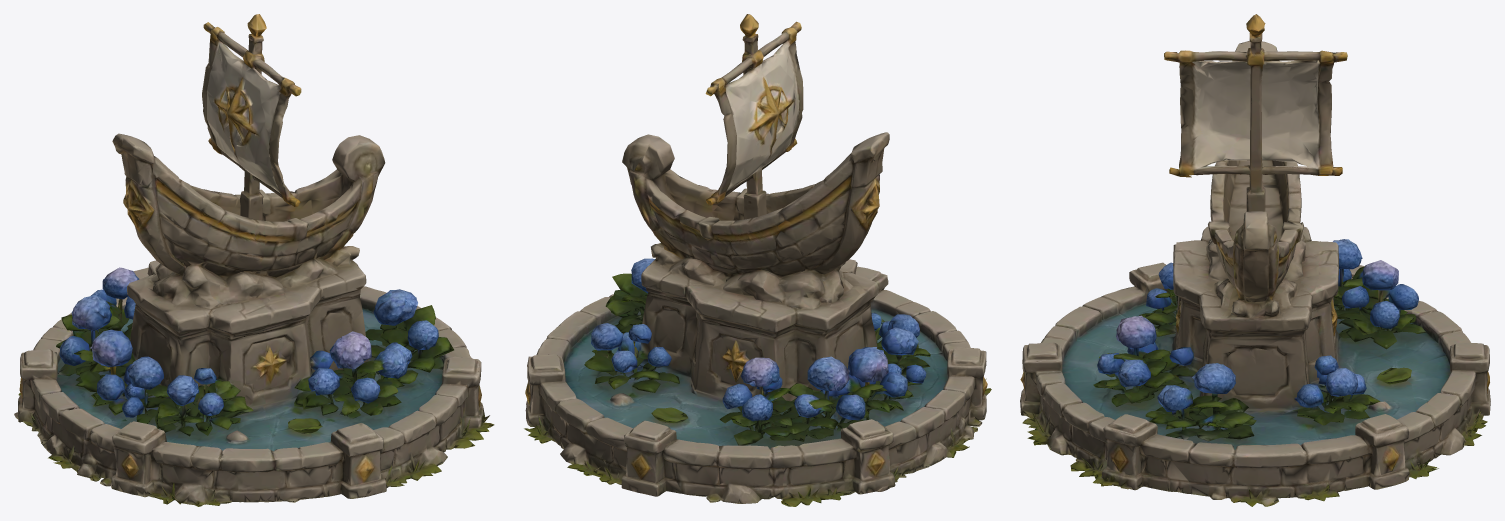
The model's file is ship_monument.glb.
3 renders of one model, left to right at view 1: azimuth 30°, elevation 25°; view 2: azimuth 150°, elevation 25°; view 3: azimuth 270°, elevation 25°, orthographic.
Visible parts, largest first — view 1: tripo_node_68a44962-064f-46eb-a0b5-19e5c2cab578; view 2: tripo_node_68a44962-064f-46eb-a0b5-19e5c2cab578; view 3: tripo_node_68a44962-064f-46eb-a0b5-19e5c2cab578.
Boxes of the visible parts, x1=… form: tripo_node_68a44962-064f-46eb-a0b5-19e5c2cab578: x1=14, y1=14, x2=494, y2=506; tripo_node_68a44962-064f-46eb-a0b5-19e5c2cab578: x1=524, y1=14, x2=991, y2=506; tripo_node_68a44962-064f-46eb-a0b5-19e5c2cab578: x1=1020, y1=14, x2=1490, y2=506.
Bounding box in the file's own units: 0.9774 × 0.893 × 0.9616.
Materials: 1 (1 with a texture image).
